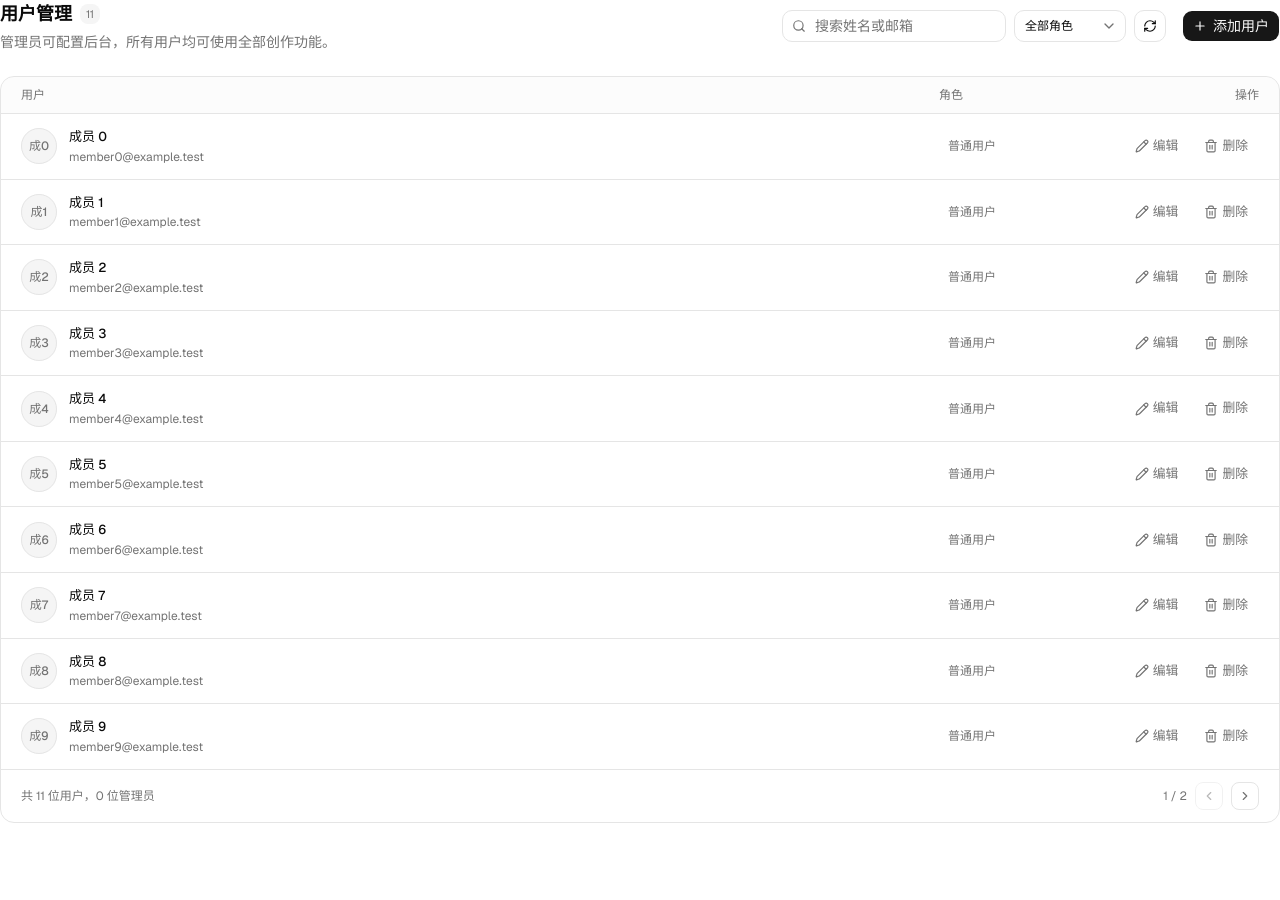
Test: returns to the previous page when its last row is deleted
The width and height of the screenshot is (1280, 900).
Check: the row "成0 成员 0 member0@example.test 普通用户 编辑 删除" is shown, box [1,114,1279,179]
Click the button named "下一页".
click(1245, 796)  # box [1231,782,1259,810]
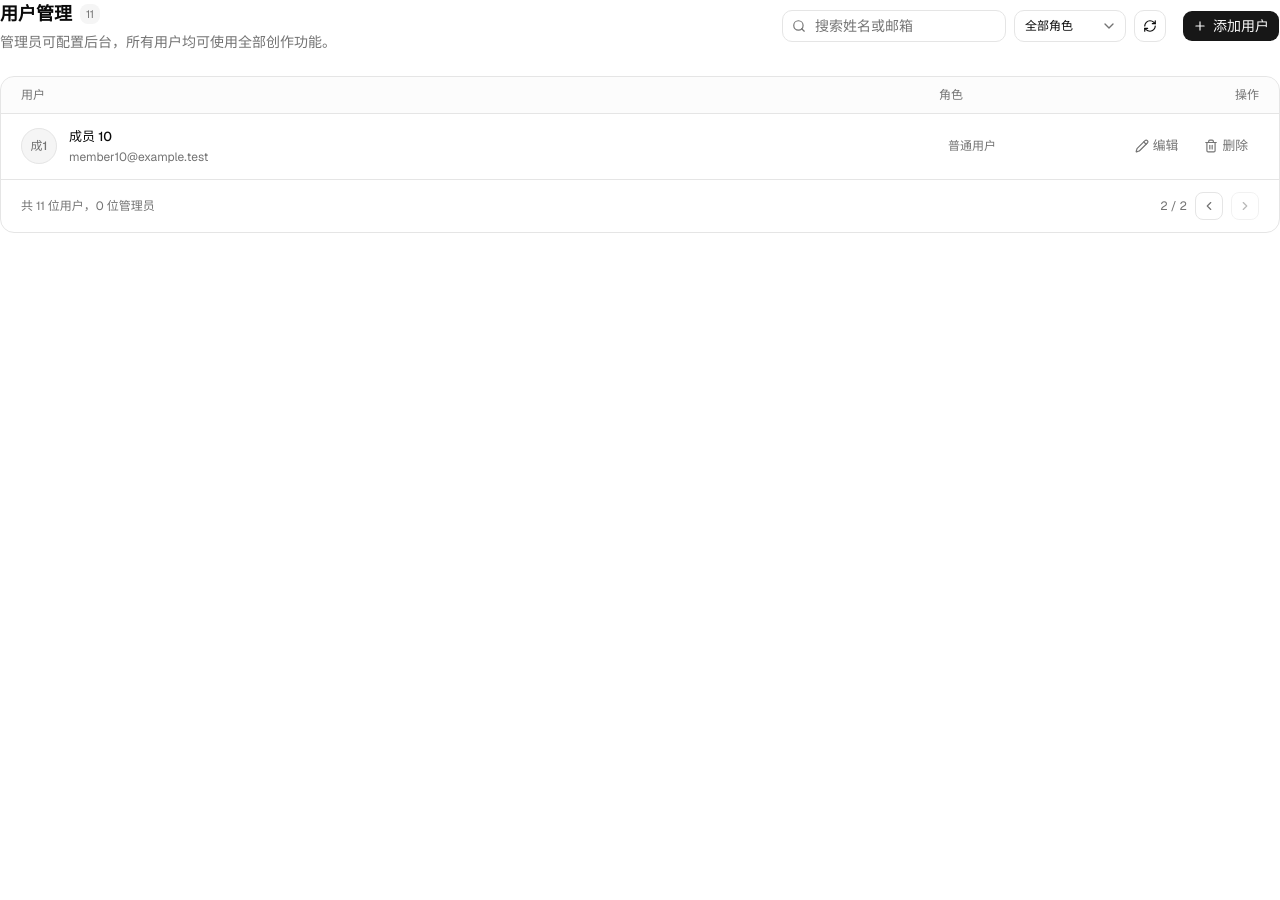
Click the button with aria-label "删除 成员 10".
click(1226, 146)  # box [1193,132,1259,160]
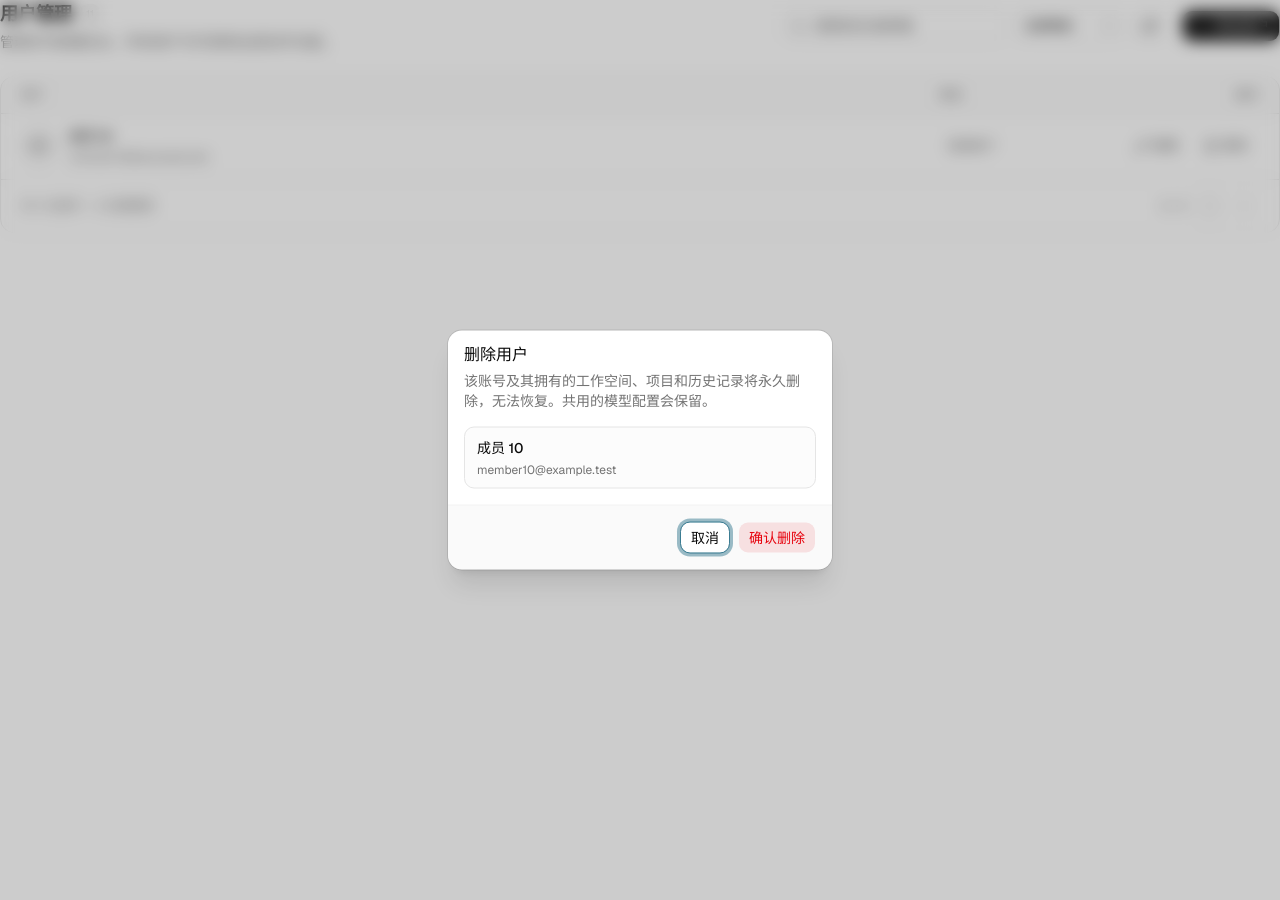
Click the button "确认删除".
click(777, 538)  # box [738,522,816,554]
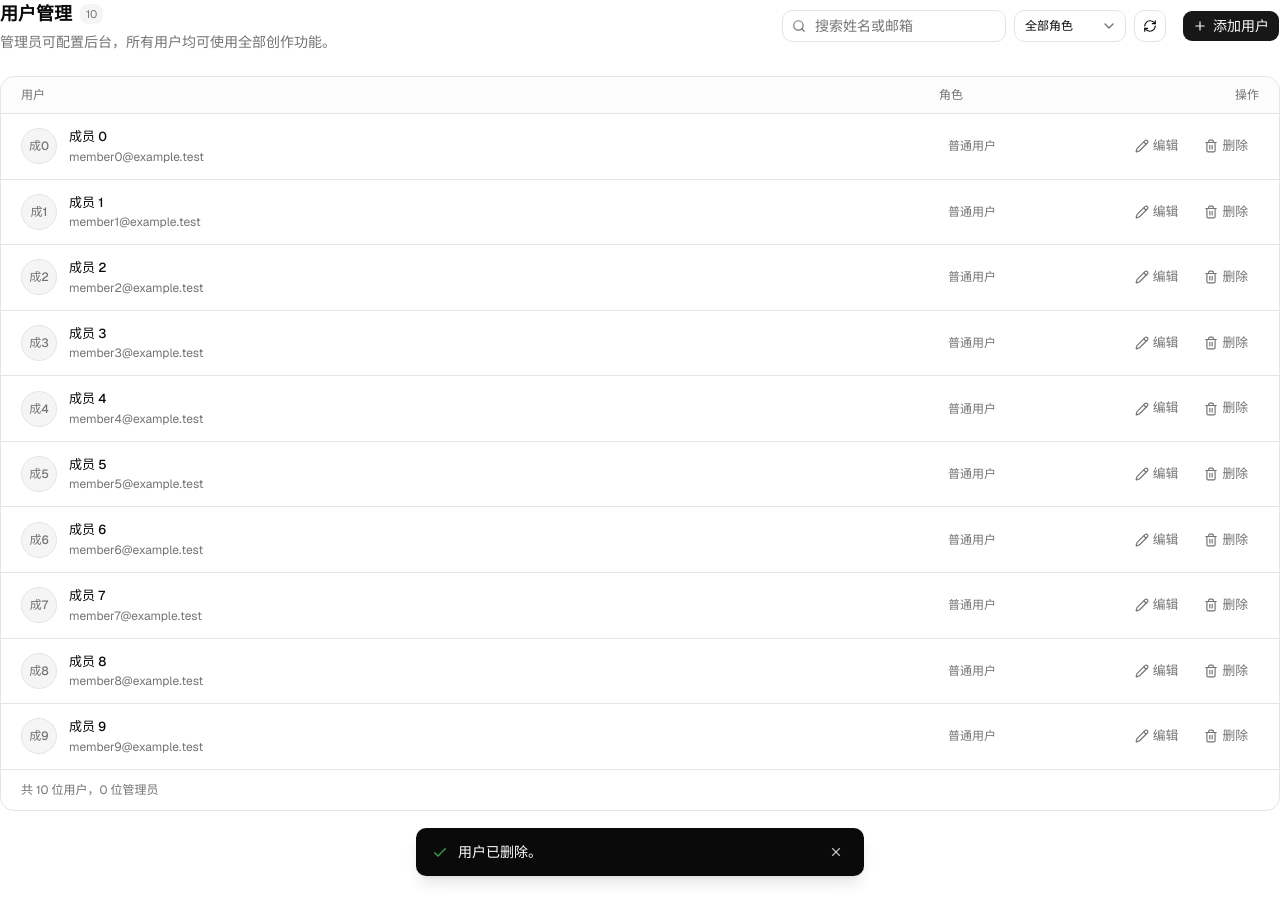
Check: the dialog is gone
Check: the row "成0 成员 0 member0@example.test 普通用户 编辑 删除" is shown, box [1,114,1279,179]
